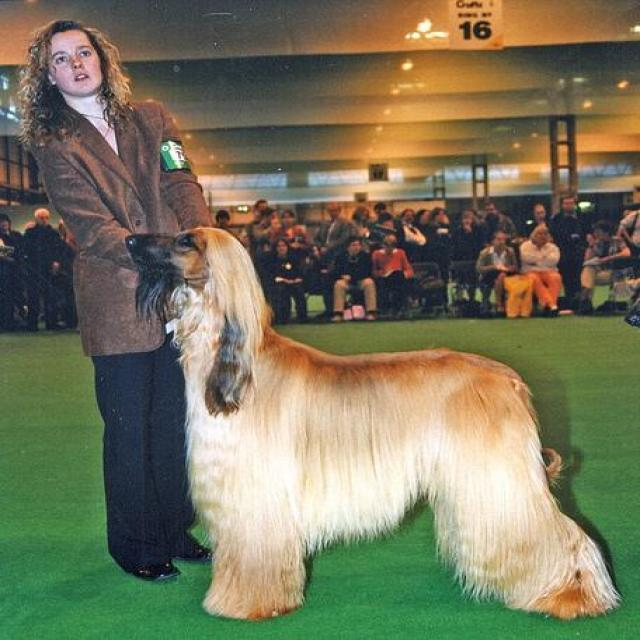afghan_hound: (120, 224, 614, 622)
